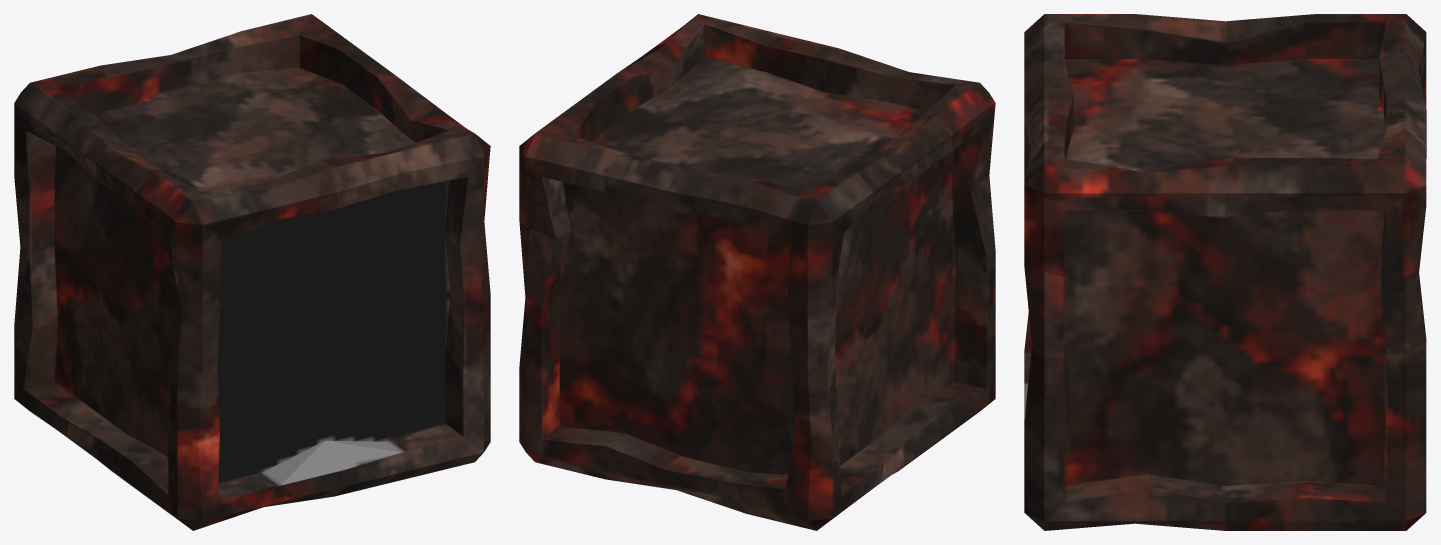
Rendered from Mistlands Stone Drawer.fbx.
3 views of the same model, side by side, from view 1: azimuth 30°, elevation 25°; view 2: azimuth 150°, elevation 25°; view 3: azimuth 270°, elevation 25° (orthographic). The views are drawn at different scales.
Parts seen in each view (by area): view 1: Cube; view 2: Cube; view 3: Cube.
Part boxes in pixels (x1=…): Cube: x1=14, y1=14, x2=490, y2=530; Cube: x1=519, y1=14, x2=995, y2=530; Cube: x1=1024, y1=14, x2=1426, y2=530.
Size of the model in its own units: 100 by 100 by 100.
1 material, 1 textured.
